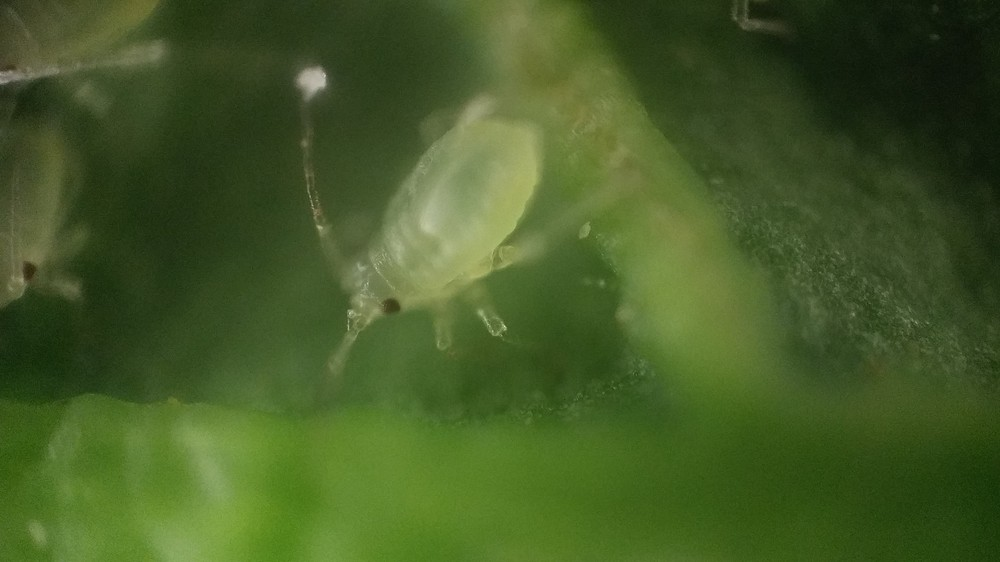Pulgon: (277, 78, 634, 387), (1, 94, 139, 345)
